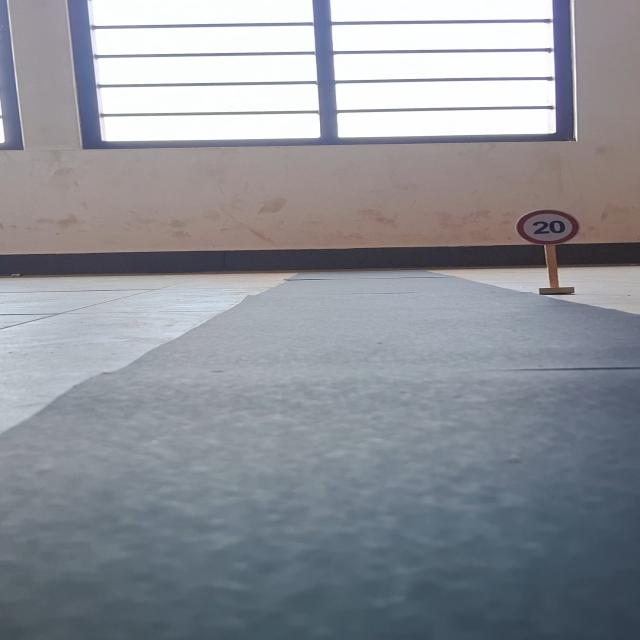Speed20: (513, 206, 586, 248)
